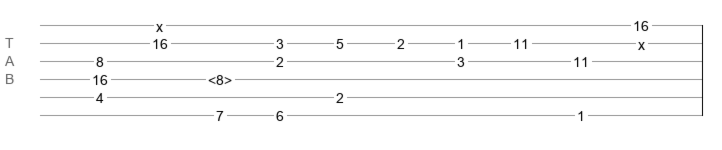1: (457, 36, 465, 46), (577, 108, 585, 118)
11: (513, 36, 529, 46), (573, 54, 589, 64)
16: (92, 72, 108, 82), (152, 36, 168, 46), (633, 18, 649, 28)
2: (276, 54, 284, 64), (336, 90, 344, 100), (397, 36, 405, 46)
3: (276, 36, 284, 46), (457, 54, 465, 64)
4: (96, 90, 104, 100)
5: (336, 36, 344, 46)
6: (276, 108, 284, 118)
7: (216, 108, 224, 118)
8: (96, 54, 104, 64)
harmonic: (208, 72, 232, 82)
x: (156, 19, 163, 27), (638, 37, 645, 45)
